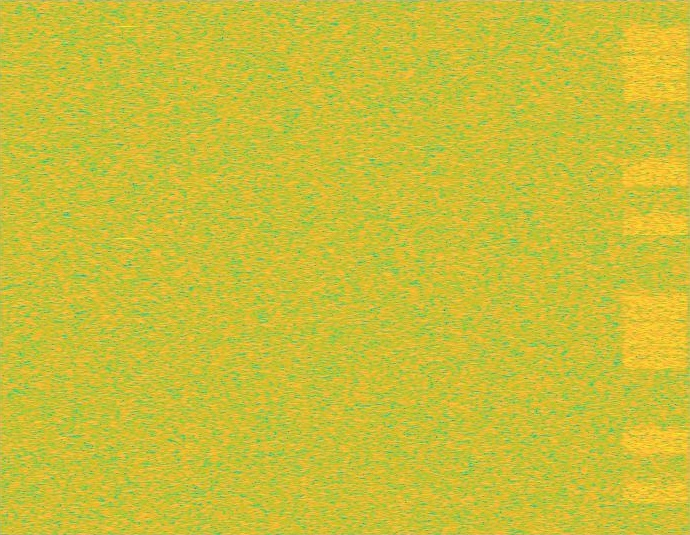LTE: (621, 0, 689, 534)
Radar: (120, 0, 134, 534)
